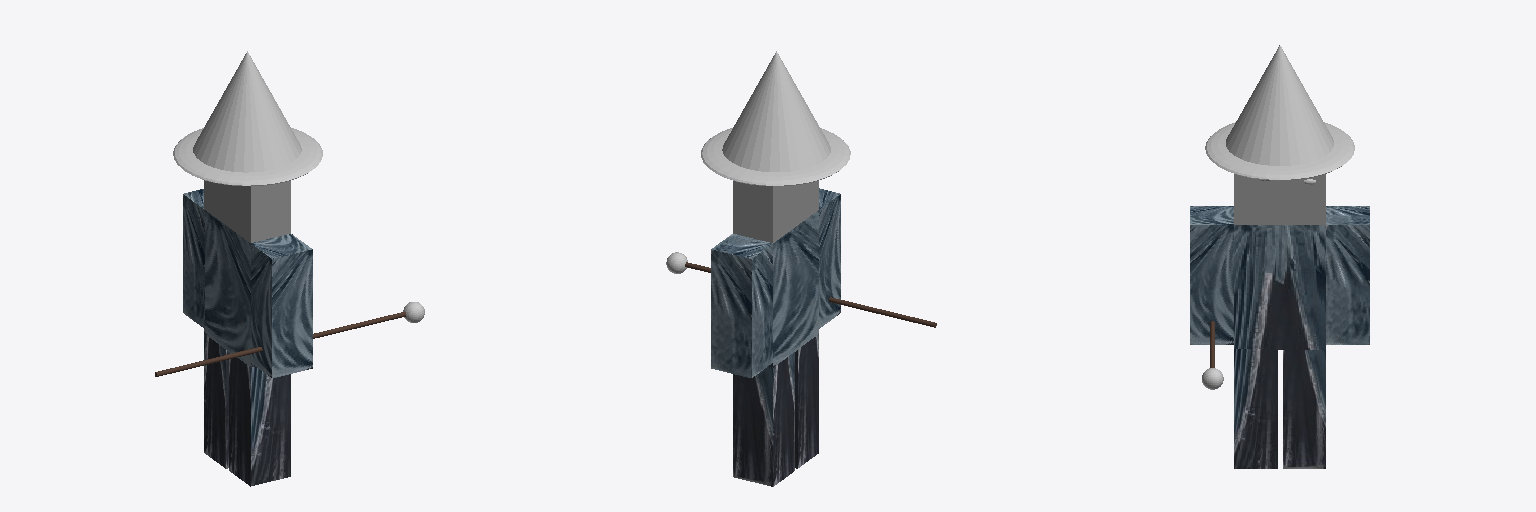
3 views of the same model, side by side, from view 1: azimuth 30°, elevation 25°; view 2: azimuth 150°, elevation 25°; view 3: azimuth 270°, elevation 25° (orthographic).
Parts seen in each view (by area): view 1: Cube.003, Cone, Cube.002, Cube, Cube.005, Sphere, Cube.001, Cube.004, Cylinder; view 2: Cube.004, Cone, Cube.001, Cube, Cube.005, Sphere, Cube.002, Cube.003, Cylinder; view 3: Cube, Cone, Cube.004, Cube.003, Cube.002, Cube.001, Cube.005, Sphere.
Part boxes in pixels (x1,y1,x2,y2): Cube.003: (251,234,312,377); Cone: (193,51,301,172); Cube.002: (229,352,290,486); Cube: (204,210,255,367); Cube.005: (204,180,290,242); Sphere: (173,128,322,185); Cube.001: (204,334,228,468); Cube.004: (183,189,204,328); Cylinder: (155,312,405,376); Cube.004: (711,234,772,377); Cone: (722,51,830,171); Cube.001: (733,352,794,486); Cube: (768,210,818,367); Cube.005: (733,181,818,242); Sphere: (701,128,850,185); Cube.002: (795,334,818,468); Cube.003: (819,188,840,328); Cylinder: (685,262,936,327); Cube: (1234,225,1325,349); Cone: (1226,45,1333,165); Cube.004: (1326,206,1369,344); Cube.003: (1190,206,1233,344); Cube.002: (1234,349,1277,468); Cube.001: (1283,350,1325,468); Cube.005: (1234,174,1325,225); Sphere: (1205,122,1354,180).
Size of the model in its own units: 5.26 by 7.78 by 3.05.
Materials: 8 (2 with a texture image).